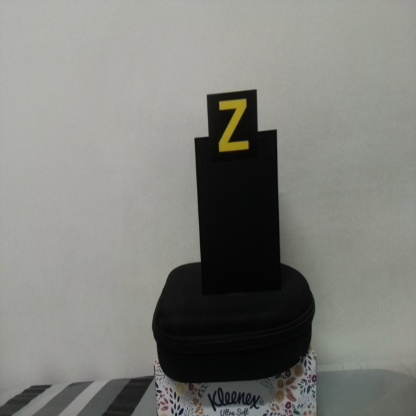id_15: (207, 95, 258, 161)
